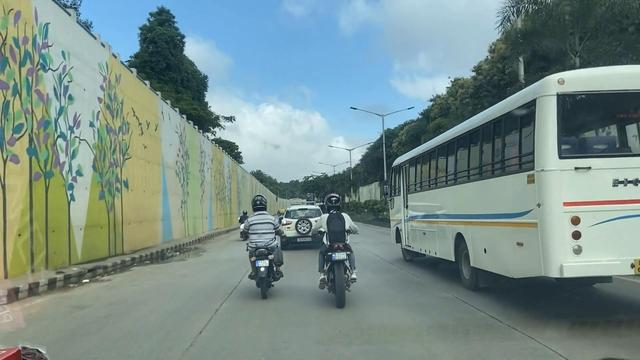HMV: (392, 71, 640, 270)
LMV: (316, 204, 356, 303), (246, 204, 282, 285), (283, 208, 321, 248)
